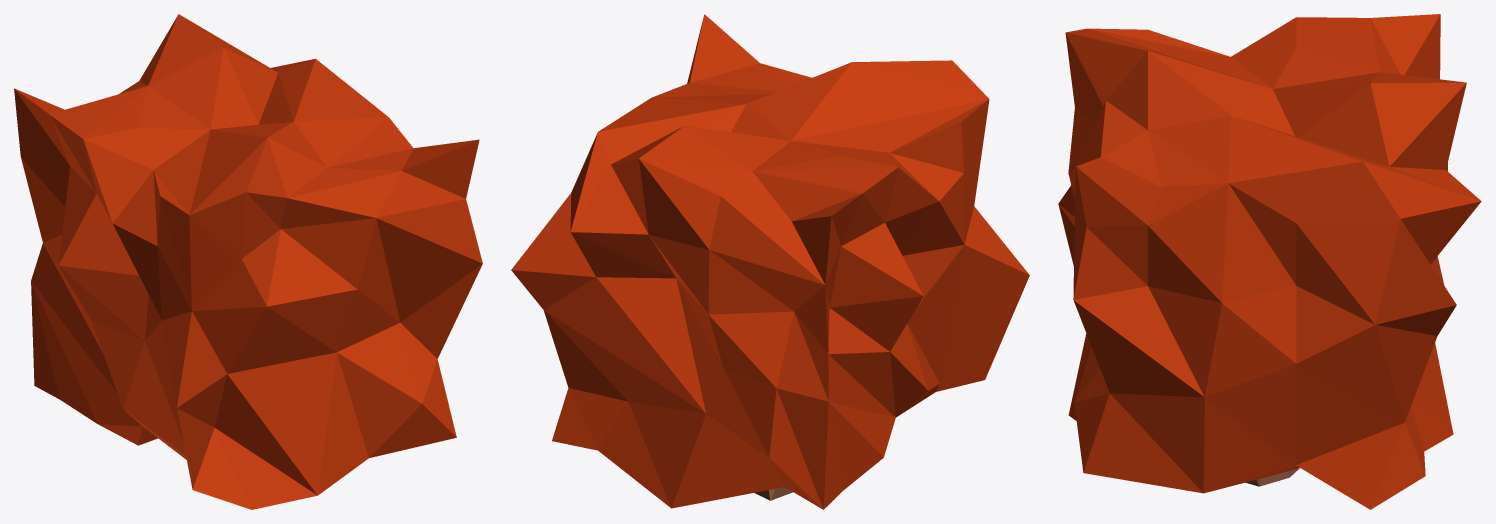
The model's file is Bush_7_summer_red_mat.fbx.
The picture shows the model from 3 angles, left to right: view 1: azimuth 30°, elevation 25°; view 2: azimuth 150°, elevation 25°; view 3: azimuth 270°, elevation 25°; orthographic projection. The views are drawn at different scales.
Visible parts, largest first — view 1: Bush_7_summer_red_mat; view 2: Bush_7_summer_red_mat; view 3: Bush_7_summer_red_mat.
Boxes of the visible parts, x1=… form: Bush_7_summer_red_mat: x1=14, y1=14, x2=482, y2=509; Bush_7_summer_red_mat: x1=511, y1=14, x2=1029, y2=509; Bush_7_summer_red_mat: x1=1058, y1=14, x2=1481, y2=509.
Bounding box in the file's own units: 47.57 × 52.13 × 49.43.
